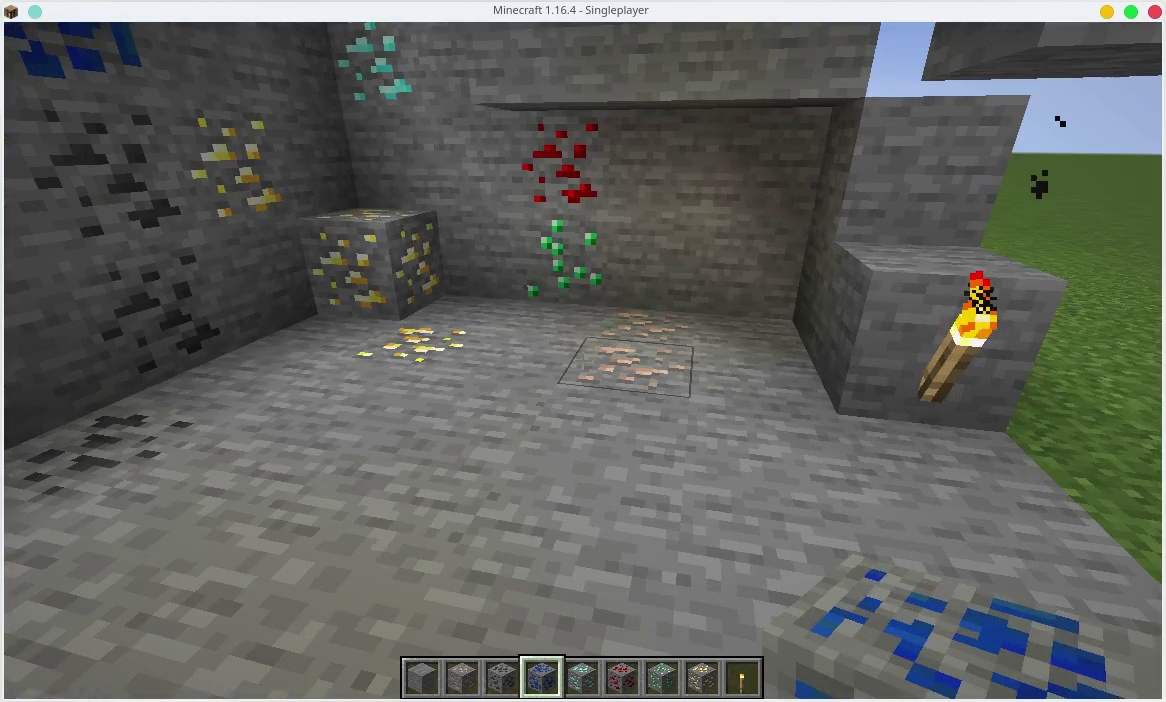gold: (318, 199, 446, 309), (191, 117, 291, 230), (360, 326, 468, 378), (685, 659, 719, 695)
